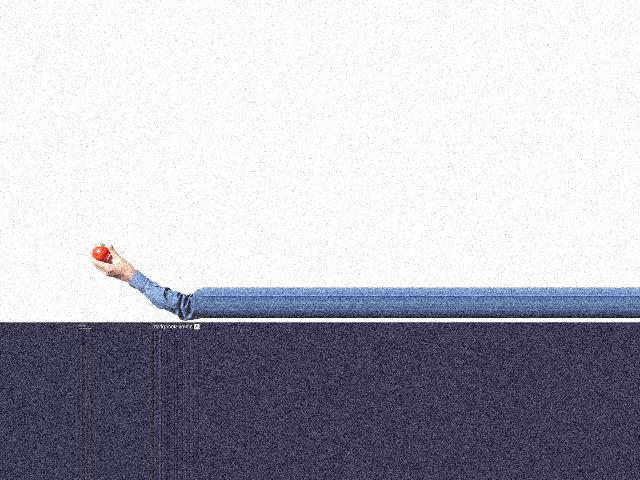tomato: (91, 246, 108, 260)
